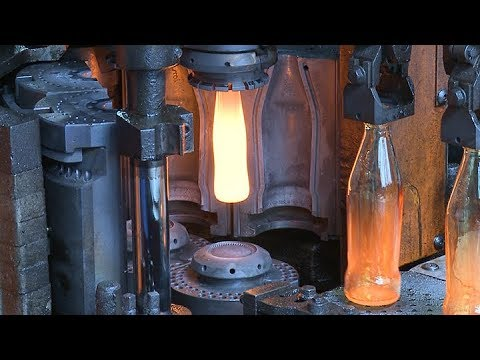glass_bottle: (341, 119, 402, 309)
